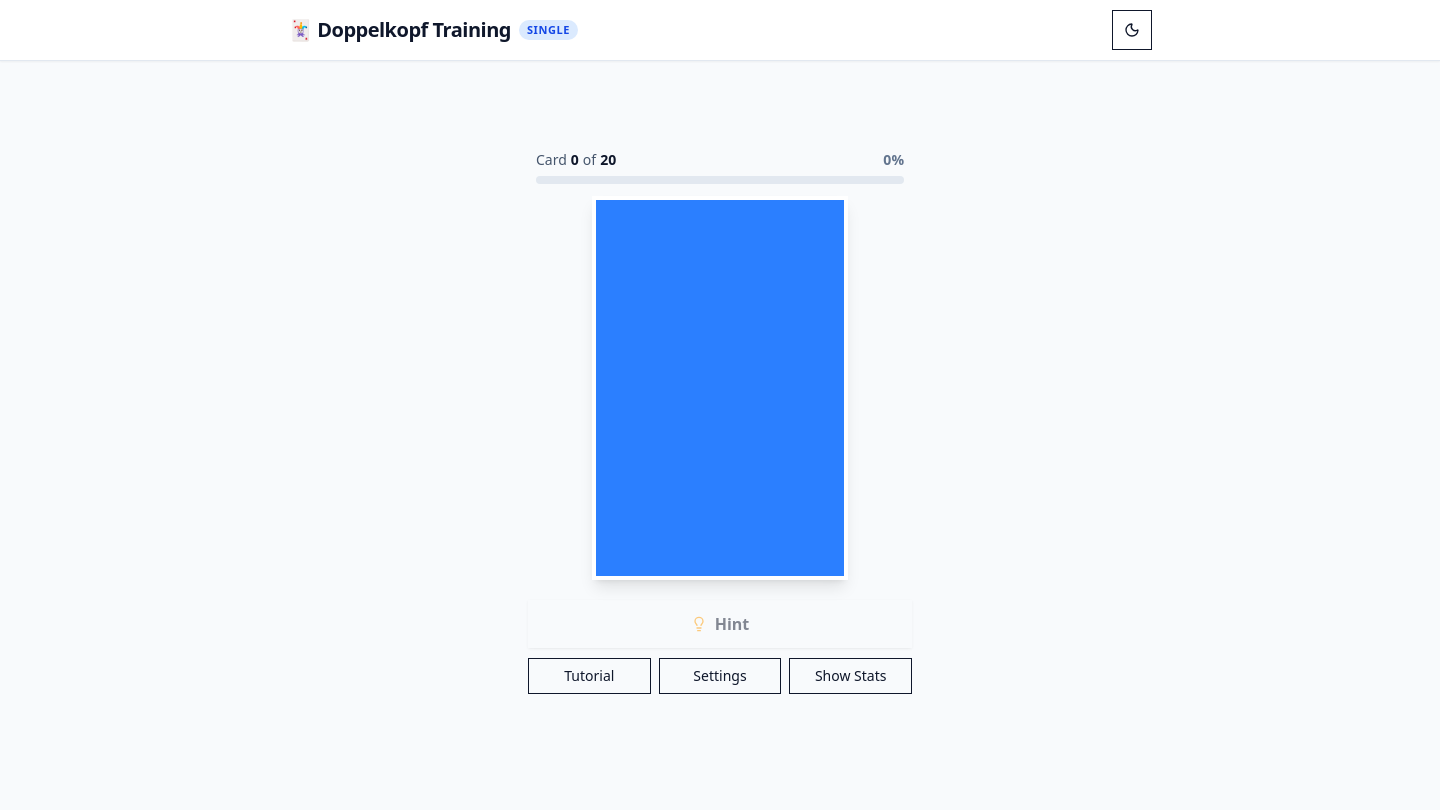
Scenario: DoppelkopfGame › shows the remaining total after each card in countdown mode
What coordinates should you click on to do the following:
click the button with test id "game-card"
I would click on:
 (720, 388)
Its box is [592, 196, 848, 580].
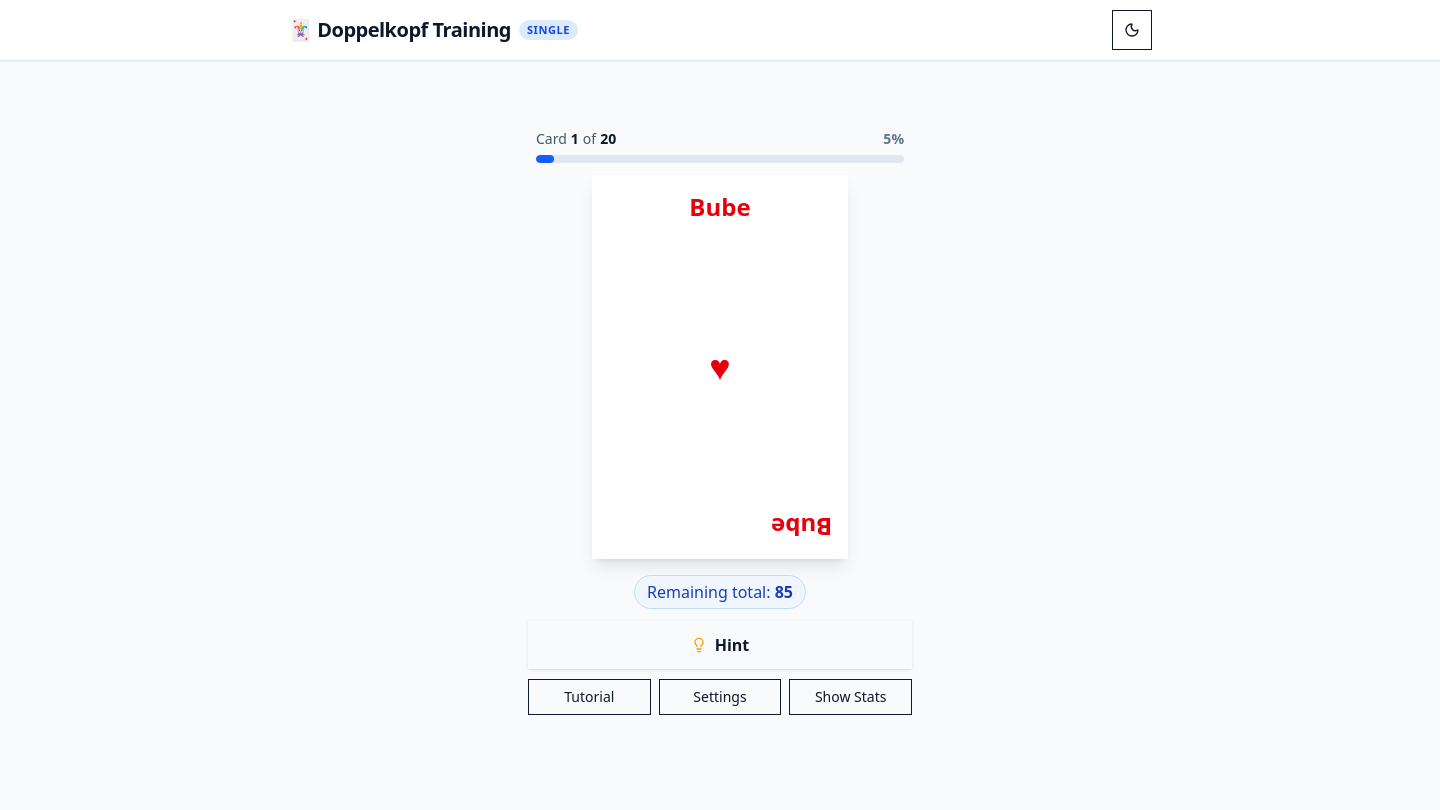
Expected: the message shows "Remaining total:", [647, 580, 771, 602]
